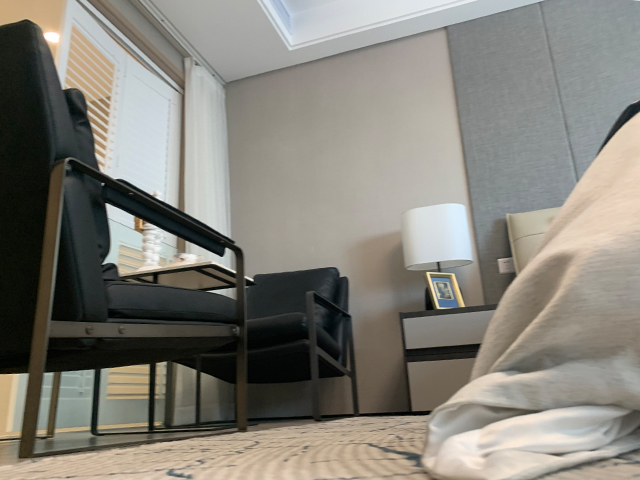cabinet: (396, 304, 497, 414)
carpet: (1, 415, 640, 480)
stool: (1, 18, 251, 462), (226, 266, 363, 424)
